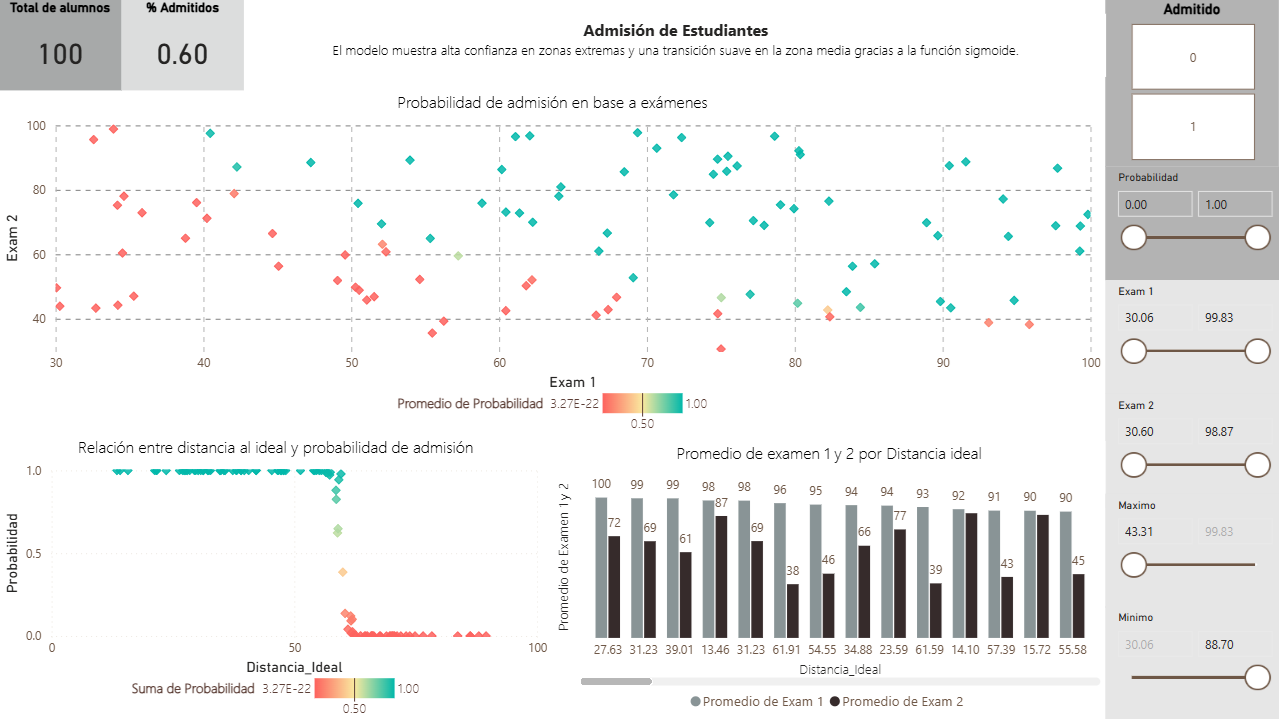

Layout of this report page (visuals, bound fields, positions):
{"tool":"powerbi","page":{"name":"Página 1","canvas":[1280,720],"ordinal":0},"visuals":[{"type":"scatterChart","title":"Probabilidad de admisión en base a exámenes","fields":{"X":["resultados_modelo.Exam 1"],"Y":["resultados_modelo.Exam 2"]},"box":[0,90,1106.7,345],"z":0},{"type":"actionButton","box":[0,0,100,40],"z":1000},{"type":"slicer","title":"Admitido","fields":{"Values":["resultados_modelo.Admitted"]},"box":[1106.7,0,173.3,166.7],"z":2000},{"type":"card","title":"Total de alumnos","fields":{"Values":["CountNonNull(resultados_modelo.Admitted)"]},"box":[0,0,122.3,90.5],"z":3000},{"type":"card","title":"% Admitidos","fields":{"Values":["Avg(resultados_modelo.Admitted)"]},"box":[122.3,0,122.3,90.5],"z":4000},{"type":"scatterChart","title":"Relación entre distancia al ideal y probabilidad de admisión","fields":{"X":["resultados_modelo.Distancia_Ideal"],"Y":["resultados_modelo.Probabilidad"]},"box":[0,435,553.3,285],"z":5000},{"type":"slicer","fields":{"Values":["resultados_modelo.Probabilidad"]},"box":[1106.7,166.7,173.3,113.3],"z":6000},{"type":"slicer","fields":{"Values":["resultados_modelo.Exam 1"]},"box":[1106.7,280,173.3,113.3],"z":7000},{"type":"slicer","fields":{"Values":["resultados_modelo.Exam 2"]},"box":[1106.7,393.3,173.3,113.3],"z":8000},{"type":"clusteredColumnChart","title":"Promedio de examen 1 y 2 por Distancia ideal","fields":{"Y":["Avg(resultados_modelo.Exam 1)","Avg(resultados_modelo.Exam 2)"],"Category":["resultados_modelo.Distancia_Ideal"]},"box":[553.9,441.4,552.7,278.8],"z":9000},{"type":"slicer","fields":{"Values":["resultados_modelo.Maximo"]},"box":[1106.7,493.3,173.3,113.3],"z":10000},{"type":"slicer","fields":{"Values":["resultados_modelo.Minimo"]},"box":[1106.7,606.7,173.3,113.3],"z":11000},{"type":"textbox","box":[245.8,13.5,860.9,63.6],"z":12000}]}

Visuals, with their boxes in screenshot pixels (x1, y1, x2, y2), scaled from the page's 1280x720 canvas onto the 1279x719 screenshot:
"Probabilidad de admisión en base a exámenes" scatterChart: box=[0, 90, 1106, 434]
actionButton: box=[0, 0, 100, 40]
"Admitido" slicer: box=[1106, 0, 1278, 166]
"Total de alumnos" card: box=[0, 0, 122, 90]
"% Admitidos" card: box=[122, 0, 244, 90]
"Relación entre distancia al ideal y probabilidad de admisión" scatterChart: box=[0, 434, 553, 718]
slicer - resultados_modelo.Probabilidad: box=[1106, 166, 1278, 280]
slicer - resultados_modelo.Exam 1: box=[1106, 280, 1278, 393]
slicer - resultados_modelo.Exam 2: box=[1106, 393, 1278, 506]
"Promedio de examen 1 y 2 por Distancia ideal" clusteredColumnChart: box=[553, 441, 1106, 718]
slicer - resultados_modelo.Maximo: box=[1106, 493, 1278, 606]
slicer - resultados_modelo.Minimo: box=[1106, 606, 1278, 718]
textbox: box=[246, 13, 1106, 77]
